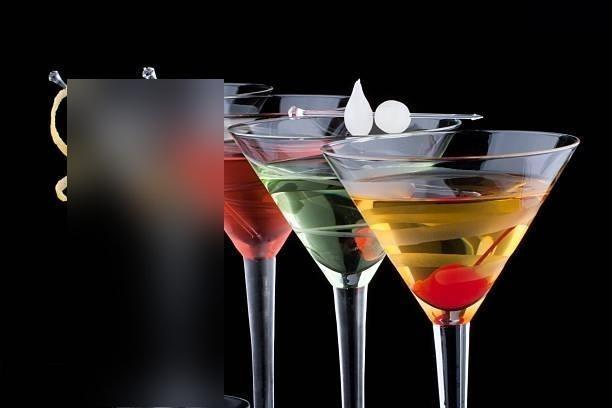glass-wine: (319, 124, 582, 408), (227, 110, 402, 407)
